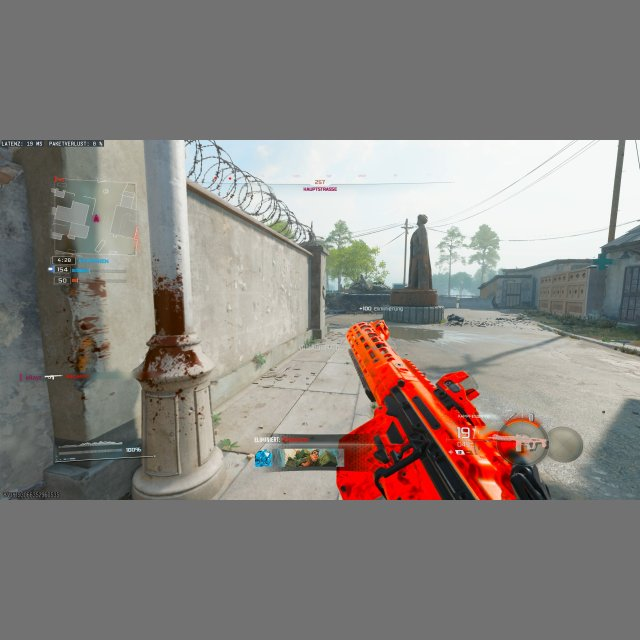player: (447, 313, 465, 326)
